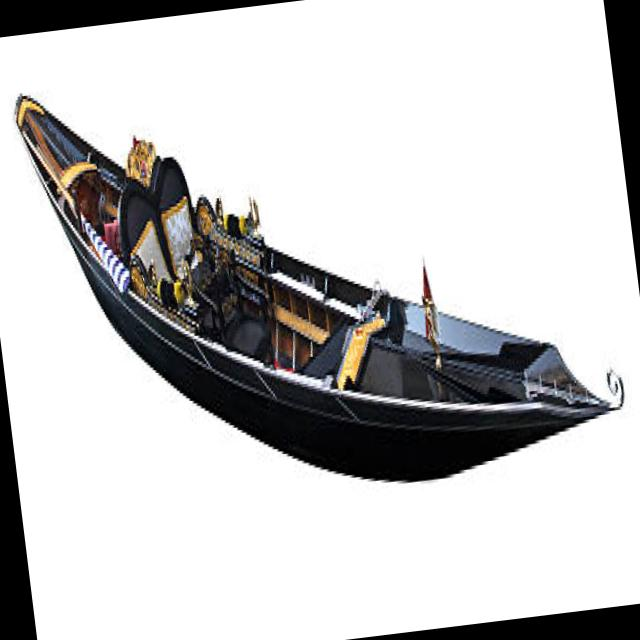boat: (0, 0, 640, 542)
